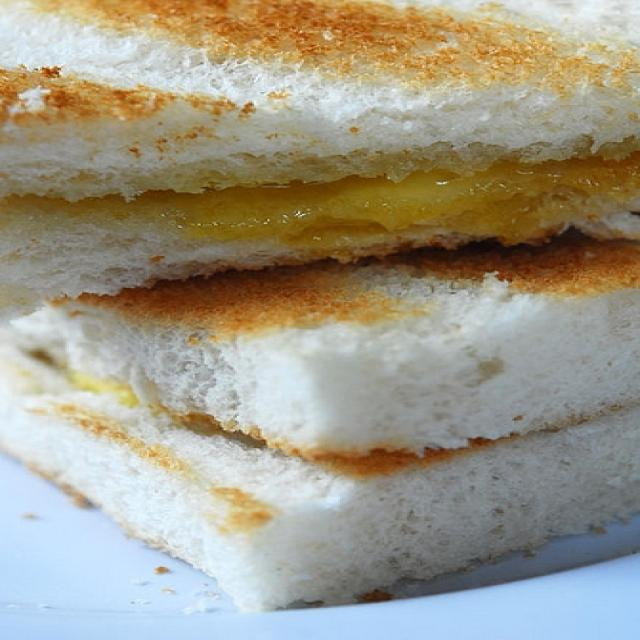面包点心: (8, 11, 622, 592)
